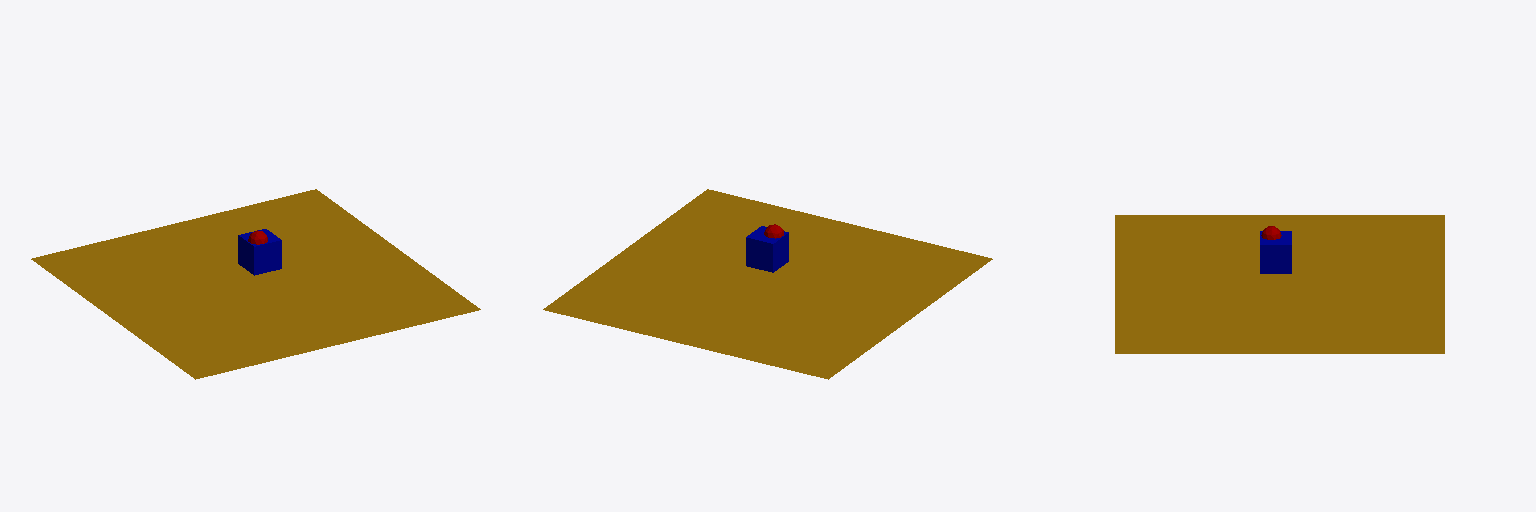
The model's file is boxIcoSphere.obj.
3 views of the same model, side by side, from view 1: azimuth 30°, elevation 25°; view 2: azimuth 150°, elevation 25°; view 3: azimuth 270°, elevation 25° (orthographic).
Visible parts, largest first — view 1: Plane, Cube; view 2: Plane, Cube; view 3: Plane, Cube.
Boxes of the visible parts, box(x1,y1,x2,y2) form: Plane: box(31, 189, 480, 379); Cube: box(238, 229, 281, 275); Plane: box(543, 189, 992, 379); Cube: box(746, 226, 788, 272); Plane: box(1115, 215, 1444, 353); Cube: box(1260, 231, 1291, 273).
Size of the model in its own units: 9.88 by 1.87 by 9.88.